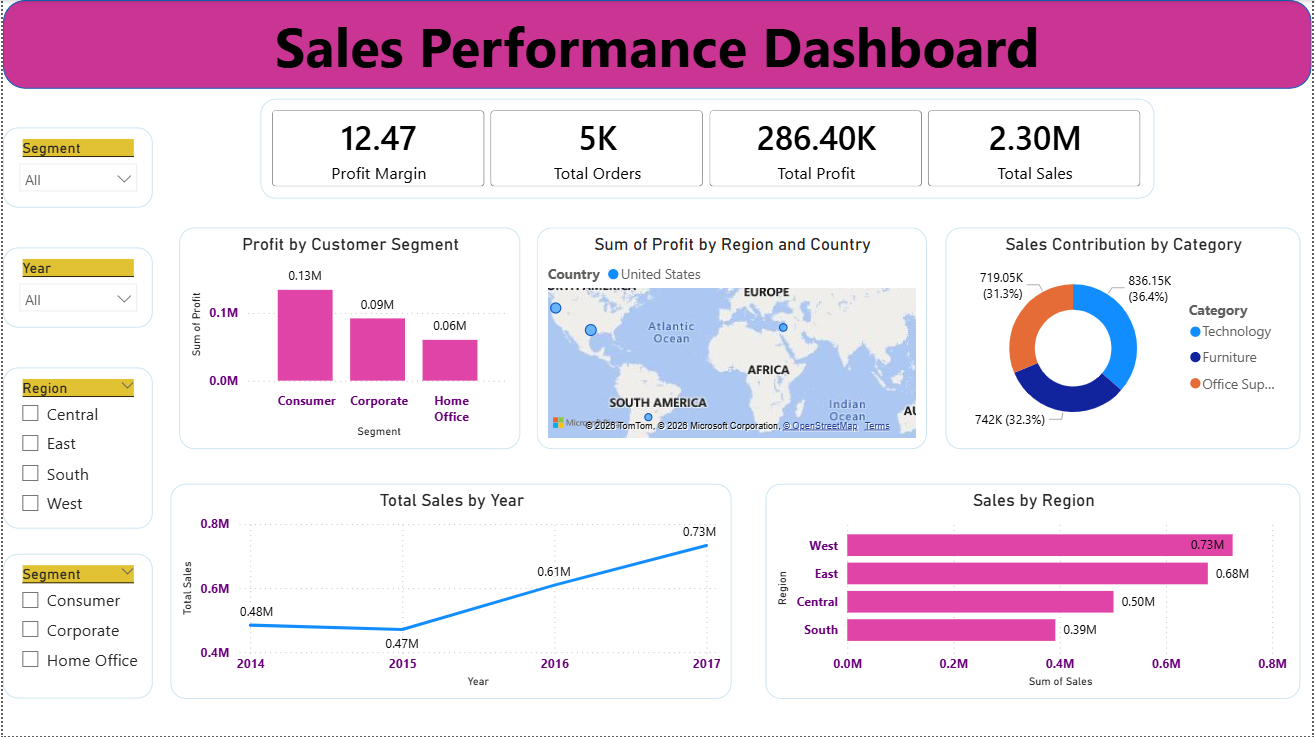

What the dashboard file says about the page in this screenshot:
{"tool":"powerbi","page":{"name":"Page 1","canvas":[1280,720],"ordinal":0},"visuals":[{"type":"cardVisual","fields":{"Data":["Sample Superstore.Profit Margin1","Sample Superstore.Total Orders","Sample Superstore.Total Profit","Sample Superstore.Total Sales"]},"box":[251.9,96.6,874.3,97.8],"z":0},{"type":"clusteredBarChart","title":"Sales by Region","fields":{"Category":["Sample Superstore.Region"],"Y":["Sum(Sample Superstore.Sales)"]},"box":[745.9,473.2,523.4,210.3],"z":1000},{"type":"lineChart","fields":{"Y":["Sample Superstore.Total Sales"],"Category":["Sample Superstore.Year"]},"box":[163.9,473.2,549.1,210.3],"z":2000},{"type":"donutChart","title":"Sales Contribution by Category","fields":{"Category":["Sample Superstore.Category"],"Y":["Sum(Sample Superstore.Sales)"]},"box":[922,222.6,347.3,216.4],"z":3000},{"type":"shape","box":[0,0,1280.3,86.8],"z":4000},{"type":"slicer","fields":{"Values":["Sample Superstore.Region"]},"box":[0,359.5,146.7,157.7],"z":5000},{"type":"slicer","fields":{"Values":["Sample Superstore.Year"]},"box":[0,242.1,146.7,78.3],"z":6000},{"type":"slicer","fields":{"Values":["Sample Superstore.Segment"]},"box":[0,124.7,146.7,78.3],"z":7000},{"type":"clusteredColumnChart","title":"Profit by Customer Segment","fields":{"Y":["Sum(Sample Superstore.Profit)"],"Category":["Sample Superstore.Segment"]},"box":[172.4,222.6,333.8,216.4],"z":8000},{"type":"slicer","fields":{"Values":["Sample Superstore.Segment"]},"box":[0,541.7,146.7,141.8],"z":9000},{"type":"map","fields":{"Category":["Sample Superstore.Region"],"Series":["Sample Superstore.Country"],"Size":["Sum(Sample Superstore.Profit)"]},"box":[522.1,222.6,381.5,216.4],"z":9001}]}

Visuals, with their boxes in screenshot pixels (x1, y1, x2, y2), scaled from the page's 1280x720 canvas onto the 1315x737 screenshot:
cardVisual - Sample Superstore.Profit Margin1 x Sample Superstore.Total Orders: l=259, t=99, r=1157, b=199
"Sales by Region" clusteredBarChart: l=766, t=484, r=1304, b=700
lineChart - Sample Superstore.Total Sales x Sample Superstore.Year: l=168, t=484, r=732, b=700
"Sales Contribution by Category" donutChart: l=947, t=228, r=1304, b=449
shape: l=0, t=0, r=1314, b=89
slicer - Sample Superstore.Region: l=0, t=368, r=151, b=529
slicer - Sample Superstore.Year: l=0, t=248, r=151, b=328
slicer - Sample Superstore.Segment: l=0, t=128, r=151, b=208
"Profit by Customer Segment" clusteredColumnChart: l=177, t=228, r=520, b=449
slicer - Sample Superstore.Segment: l=0, t=554, r=151, b=700
map - Sample Superstore.Region x Sample Superstore.Country: l=536, t=228, r=928, b=449
